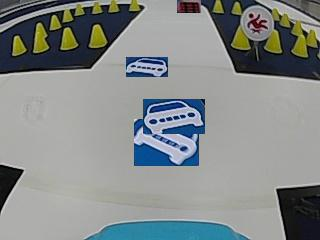cone: (88, 24, 107, 48), (230, 26, 249, 50), (32, 24, 48, 52), (264, 31, 282, 54), (60, 27, 77, 50), (292, 35, 307, 58), (11, 34, 25, 55), (306, 28, 317, 47), (49, 13, 60, 30), (211, 0, 224, 14), (61, 8, 73, 23), (230, 1, 241, 15), (91, 1, 102, 14), (108, 0, 119, 13), (74, 3, 85, 16), (280, 12, 289, 27), (129, 0, 140, 11), (271, 7, 279, 21)
tumble: (242, 10, 269, 37)
